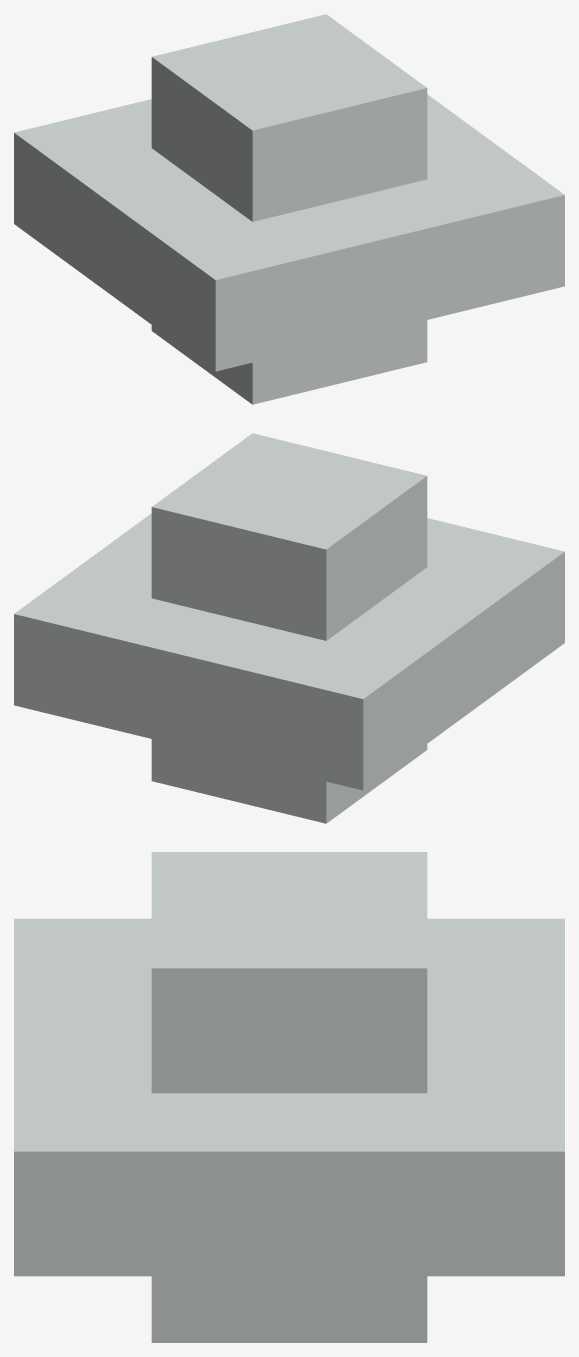
File: white_smoke_002.obj
3 renders of one model, top to bottom at view 1: azimuth 30°, elevation 25°; view 2: azimuth 150°, elevation 25°; view 3: azimuth 270°, elevation 25°, orthographic. The views are drawn at different scales.
Size of the model in its own units: 4 by 3 by 4.
Materials: 1 (1 with a texture image).
